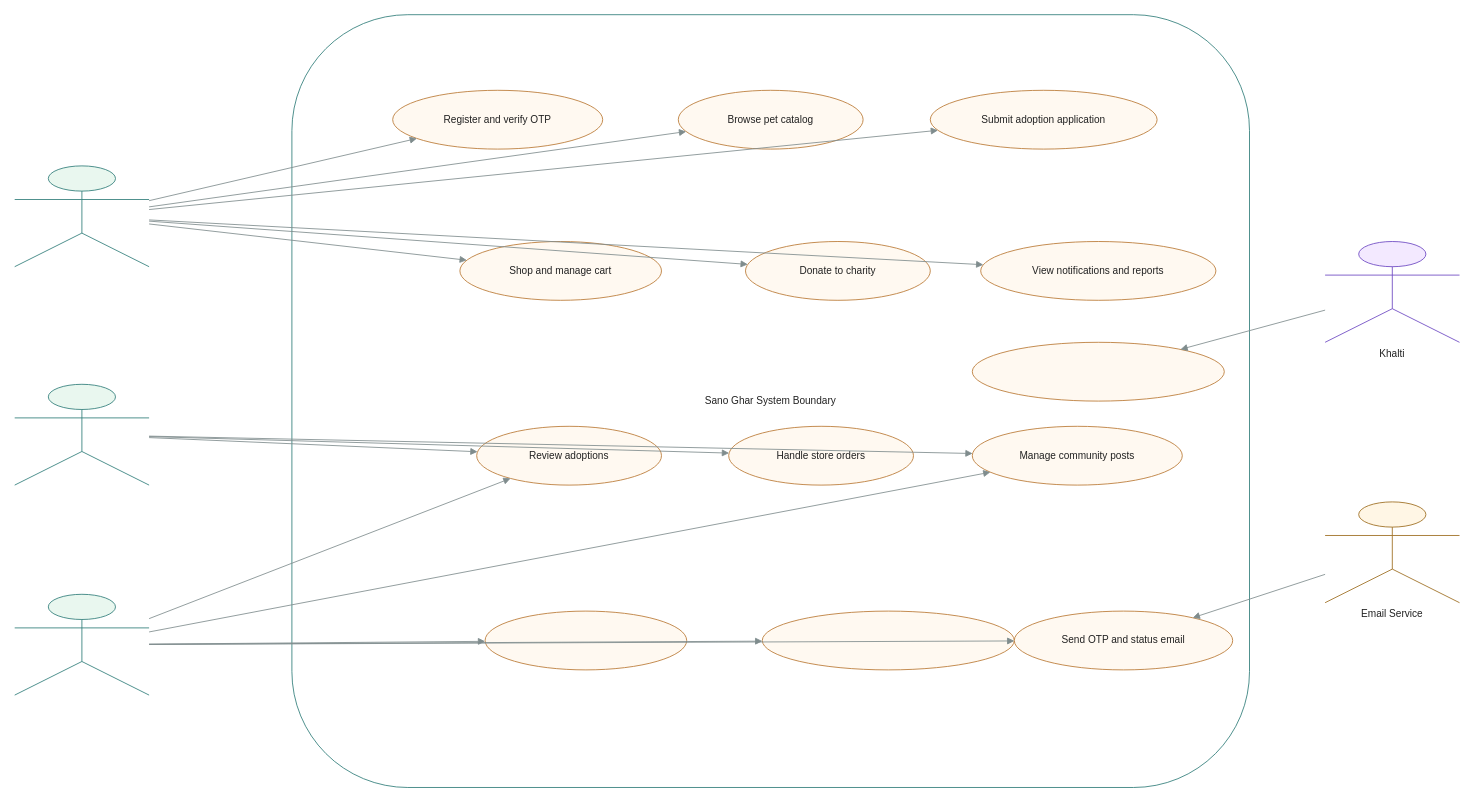
Image size: 1474x802. Some labels were removed from this diagram. Here are the shapes that lost their labels. From the top down, the box of each, then its label:
(14, 165, 149, 267): User
(971, 341, 1224, 401): Process payment verification
(14, 383, 149, 485): Staff
(14, 593, 149, 695): Admin
(484, 610, 687, 670): Manage users and staff
(761, 610, 1014, 670): Review analytics and transfers
